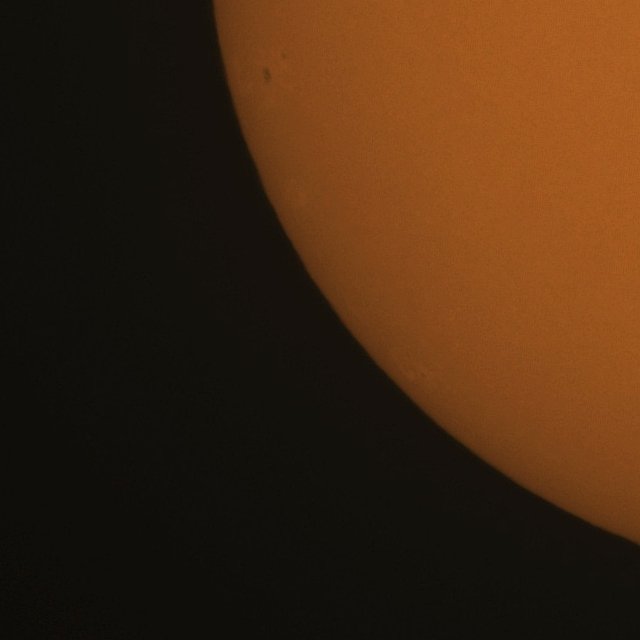sunspot: (262, 65, 272, 85)
